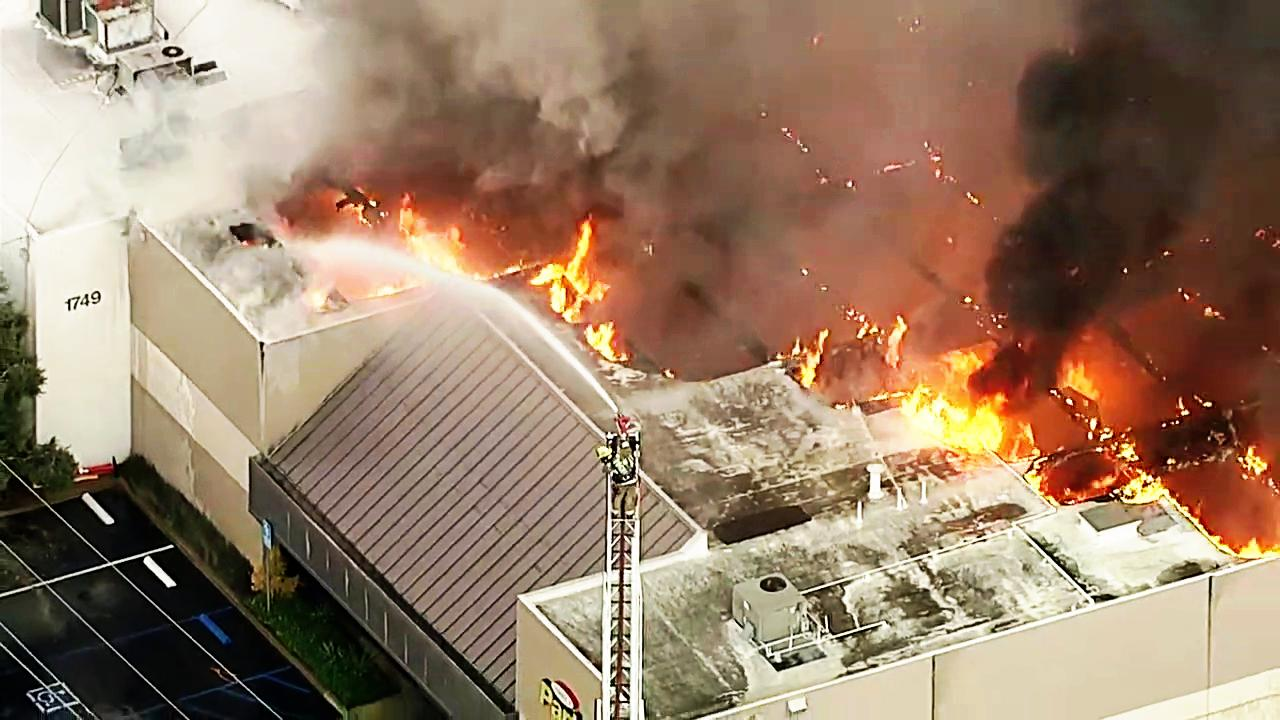fire: (904, 382, 1011, 456)
smoke: (997, 2, 1280, 310)
